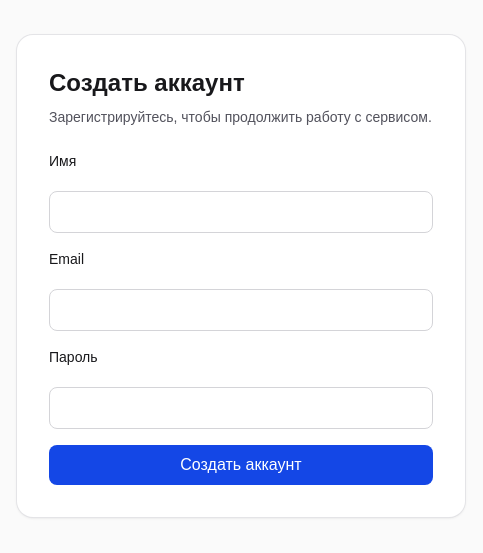
it: AuthForm › validates a registration password before sending a request
In the field labelled "Имя": point(241, 212) [49,191,433,233], type "Person"
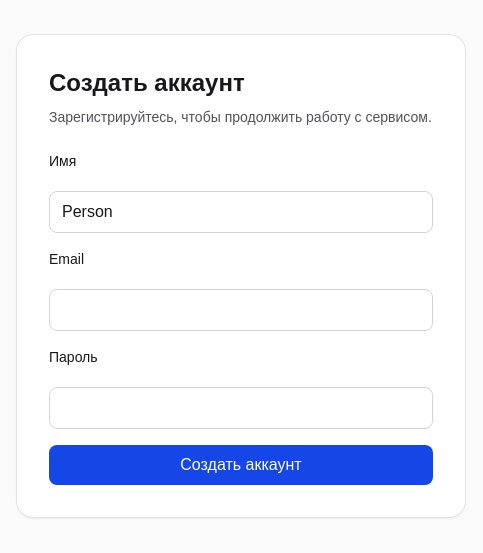
In the field labelled "Email": point(241, 310) [49,289,433,331], type "person@example.com"
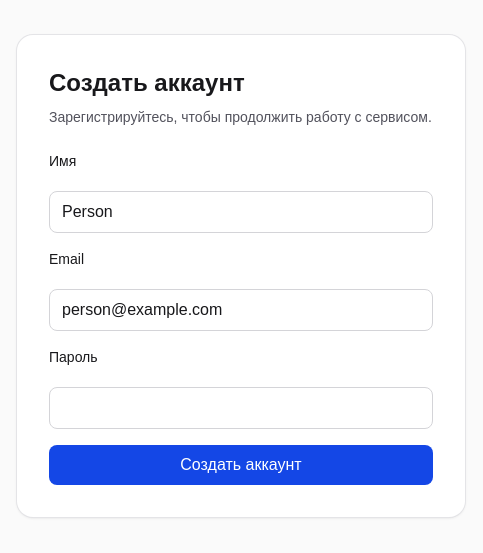
In the password field labelled "Пароль": point(241, 408) [49,387,433,429], type "short"
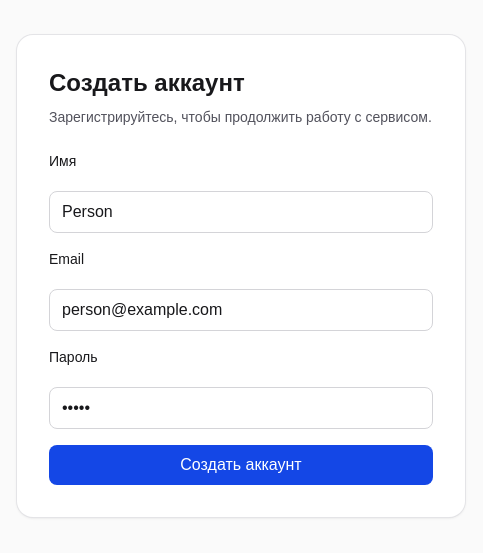
Submit the form "Создать аккаунт", box [49,151,433,485]
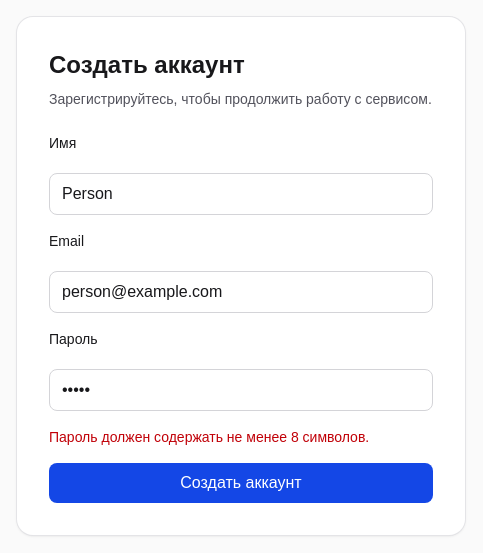
Expected: the message shows "не менее 8 символов", [49,429,369,445]
